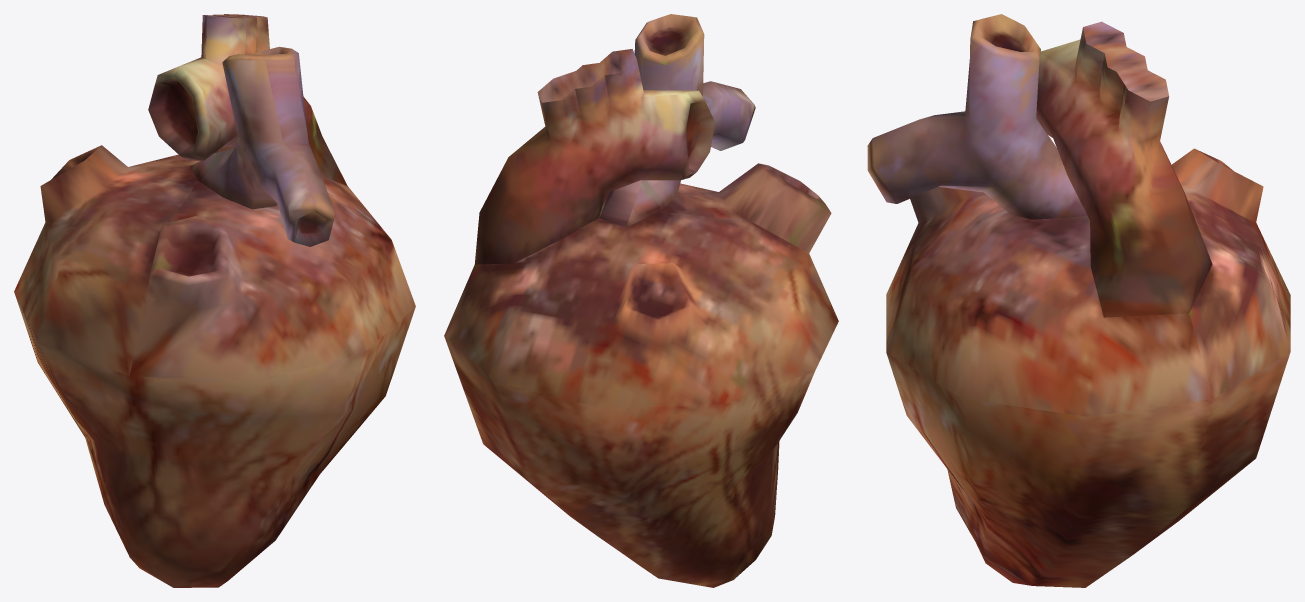
Rendered from eqp_organ_heart_s01_l0.fbx.
The picture shows the model from 3 angles, left to right: view 1: azimuth 30°, elevation 25°; view 2: azimuth 150°, elevation 25°; view 3: azimuth 270°, elevation 25°; orthographic projection. The views are drawn at different scales.
Parts seen in each view (by area): view 1: mesh_node; view 2: mesh_node; view 3: mesh_node.
Boxes of the visible parts, x1=… form: mesh_node: x1=14, y1=14, x2=415, y2=587; mesh_node: x1=444, y1=14, x2=838, y2=587; mesh_node: x1=867, y1=14, x2=1290, y2=587.
Bounding box in the file's own units: 0.1183 × 0.1736 × 0.1134.
